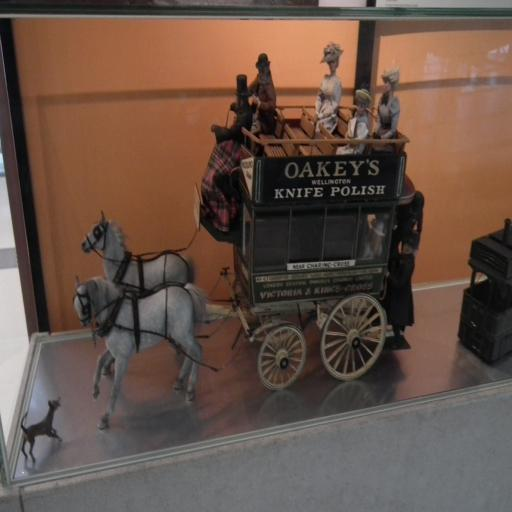horse: (72, 272, 214, 432), (80, 208, 196, 376)
